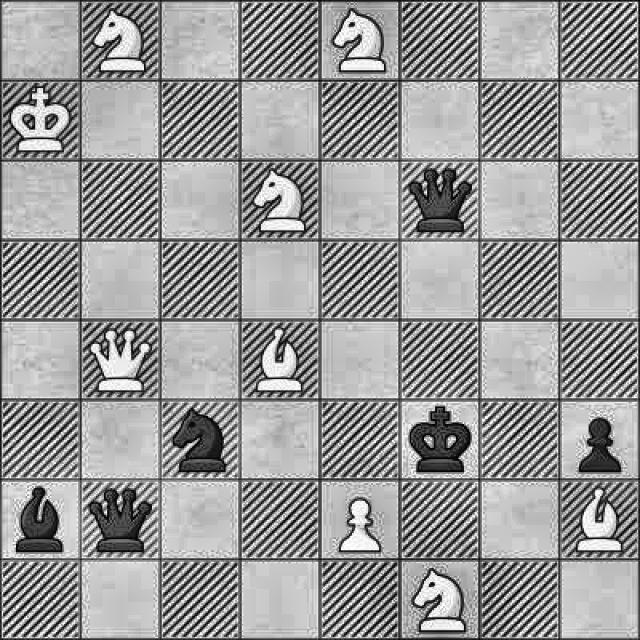Black Knight: (170, 402, 230, 475)
black bishop: (0, 485, 76, 557)
black king: (405, 403, 475, 472)
black pawn: (566, 406, 632, 478)
black queen: (402, 161, 475, 242), (87, 481, 158, 559)
white bishop: (246, 326, 314, 396), (567, 488, 630, 555)
white king: (8, 86, 74, 154)
white pawn: (331, 499, 389, 556)
white queen: (89, 320, 154, 396)
whiteknight: (401, 566, 472, 640), (248, 168, 306, 242), (86, 5, 150, 72), (332, 8, 391, 80)
